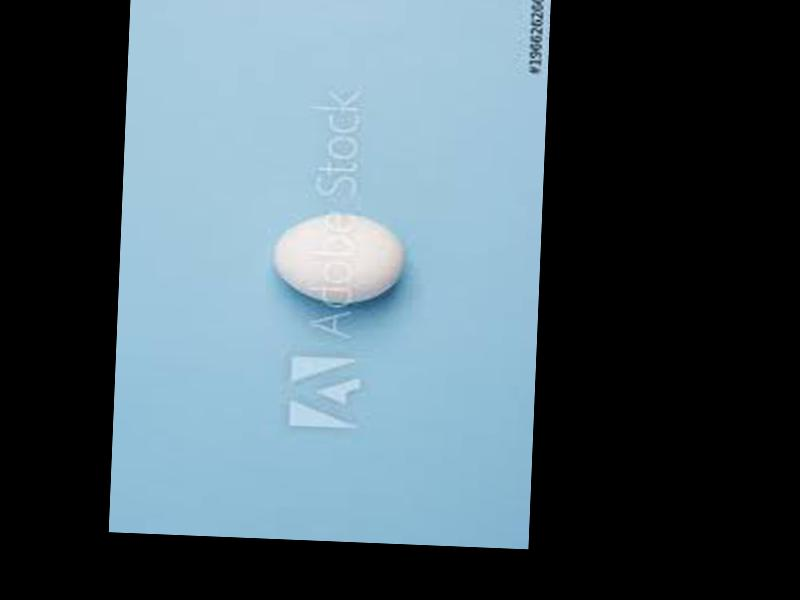Eggs: (274, 212, 404, 305)
